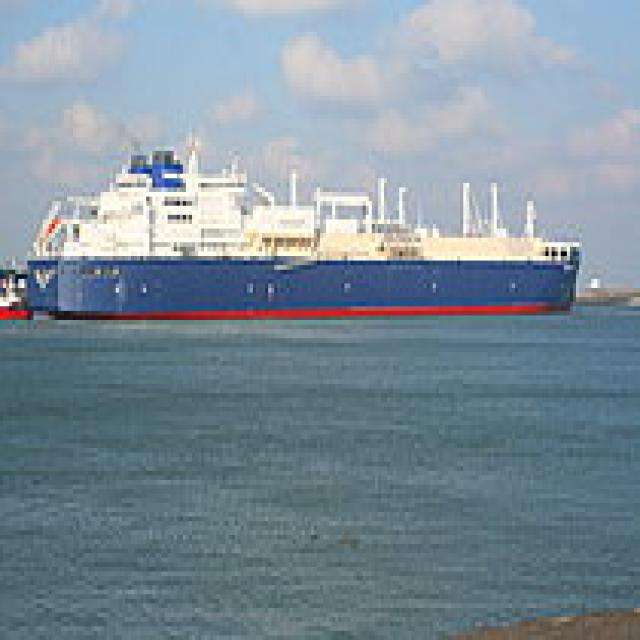Tanker: (21, 128, 579, 315)
